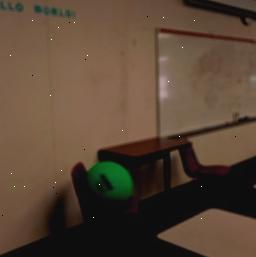algae: (86, 157, 134, 200)
